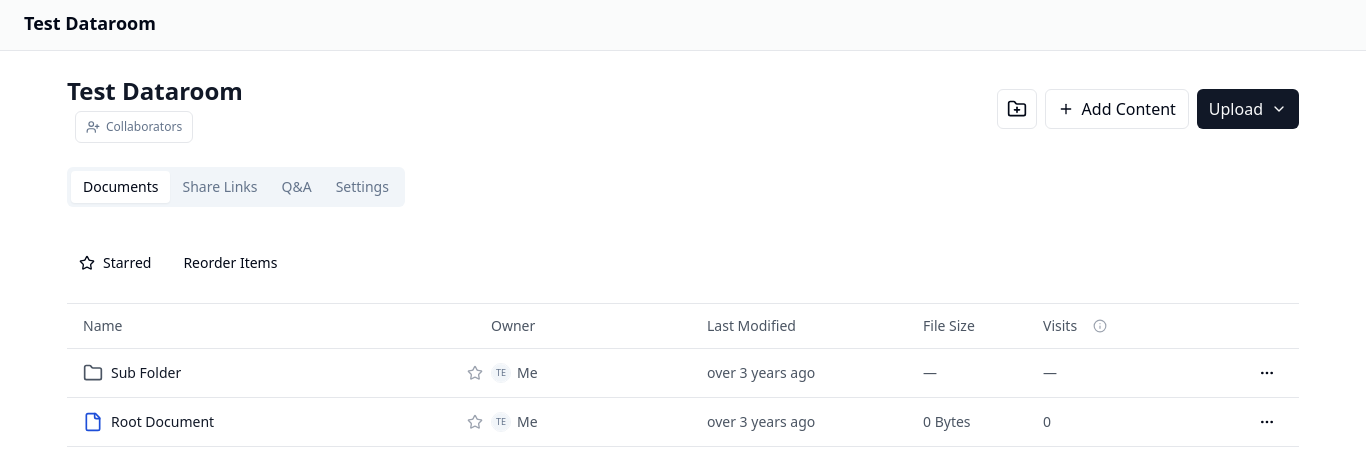
Test case: DataroomPage › Folder Navigation › should navigate back to parent folder when Back to parent button is clicked
The width and height of the screenshot is (1366, 464).
Click the button "Sub Folder": click(146, 373) [111,363,181,383]
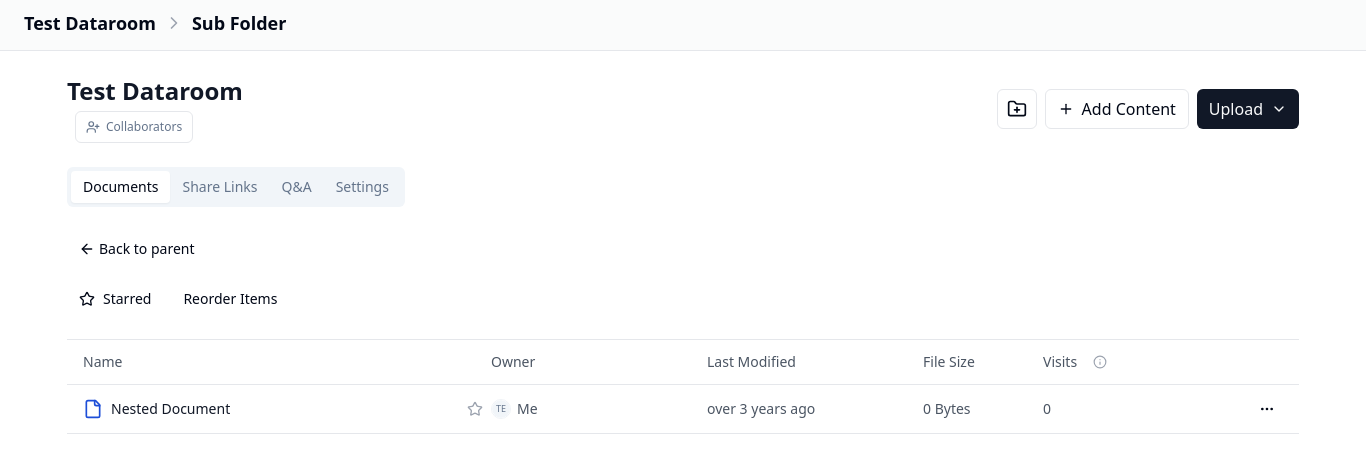
expect the button "Nested Document" is shown: met, box [111,399,230,419]
expect the button "Back to parent" is shown: met
Click the button "Back to parent": click(137, 249) [67,231,206,267]
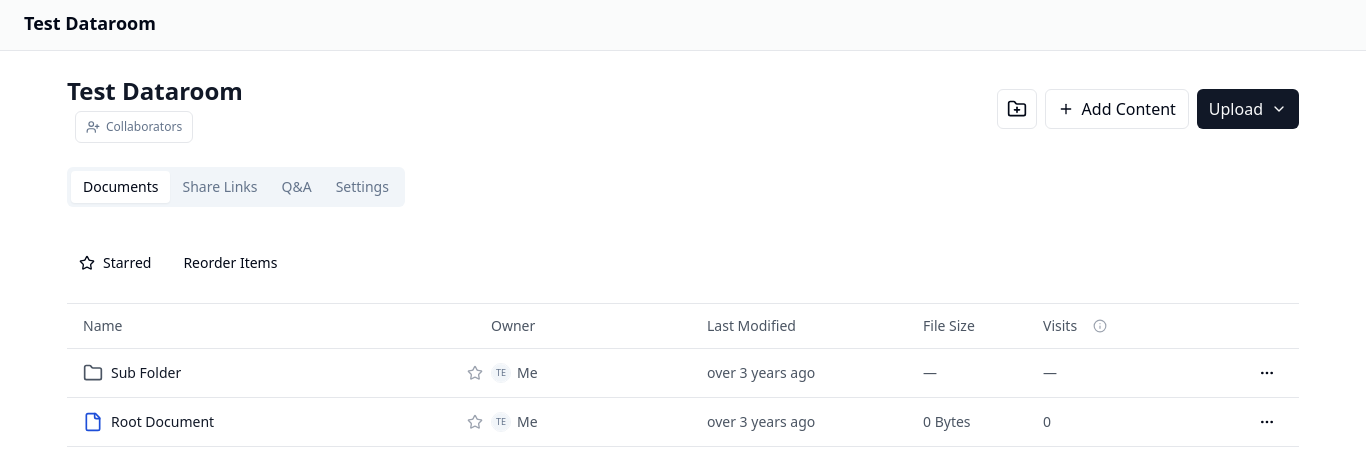
expect the button "Root Document" is shown: met, box [111,412,214,432]
expect the button "Nested Document" is gone: met
